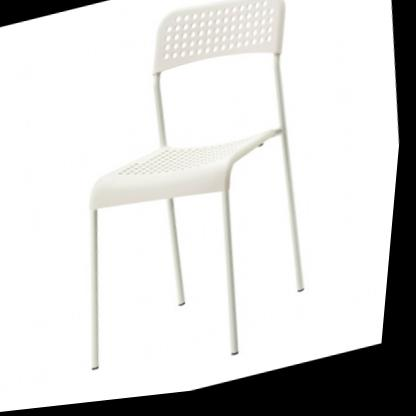Chair: (47, 0, 342, 400)
